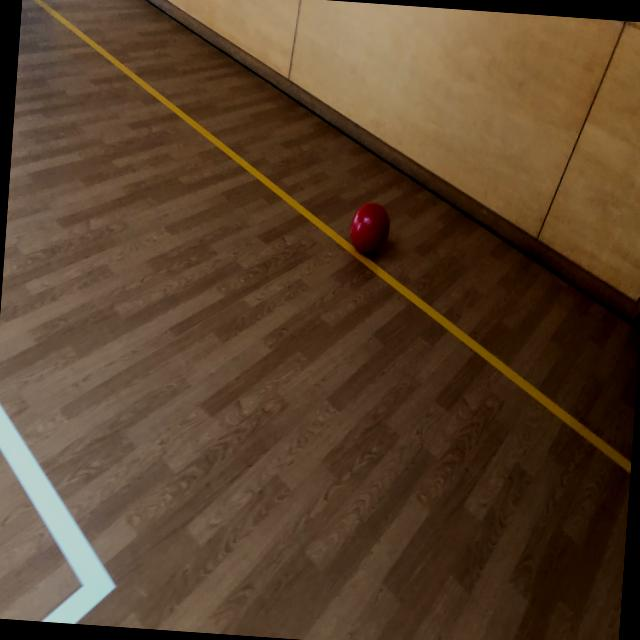red_ball: (350, 200, 391, 256)
